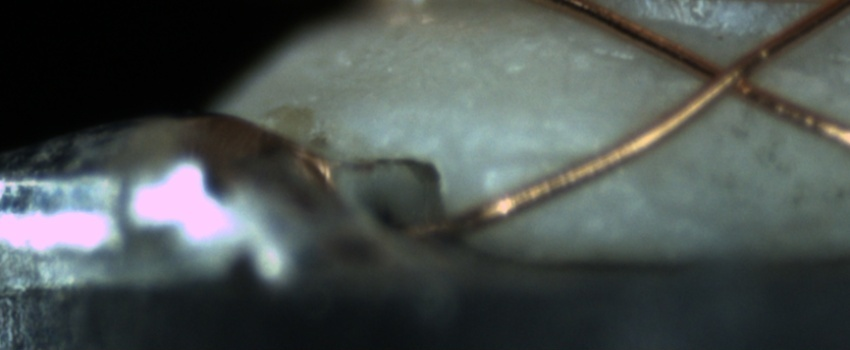CL: (676, 38, 778, 114)
DL: (480, 128, 625, 192)
